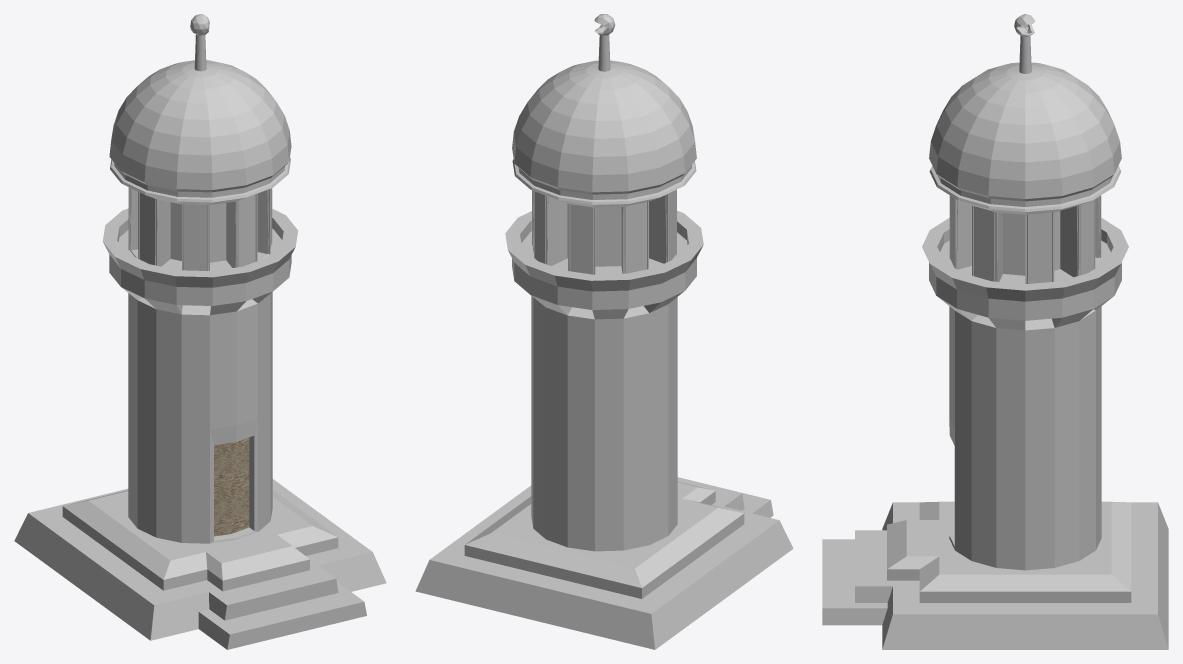
Rendered from simple_tower_pacman.obj.
The picture shows the model from 3 angles, left to right: view 1: azimuth 30°, elevation 25°; view 2: azimuth 150°, elevation 25°; view 3: azimuth 270°, elevation 25°; orthographic projection. The views are drawn at different scales.
Visible parts, largest first — view 1: Circle_Circle.002; view 2: Circle_Circle.002; view 3: Circle_Circle.002.
Boxes of the visible parts, <box> form: Circle_Circle.002: <box>14,14,386,649</box>; Circle_Circle.002: <box>415,14,793,649</box>; Circle_Circle.002: <box>822,14,1168,649</box>.
Bounding box in the file's own units: 9.97 × 22.07 × 12.05.
